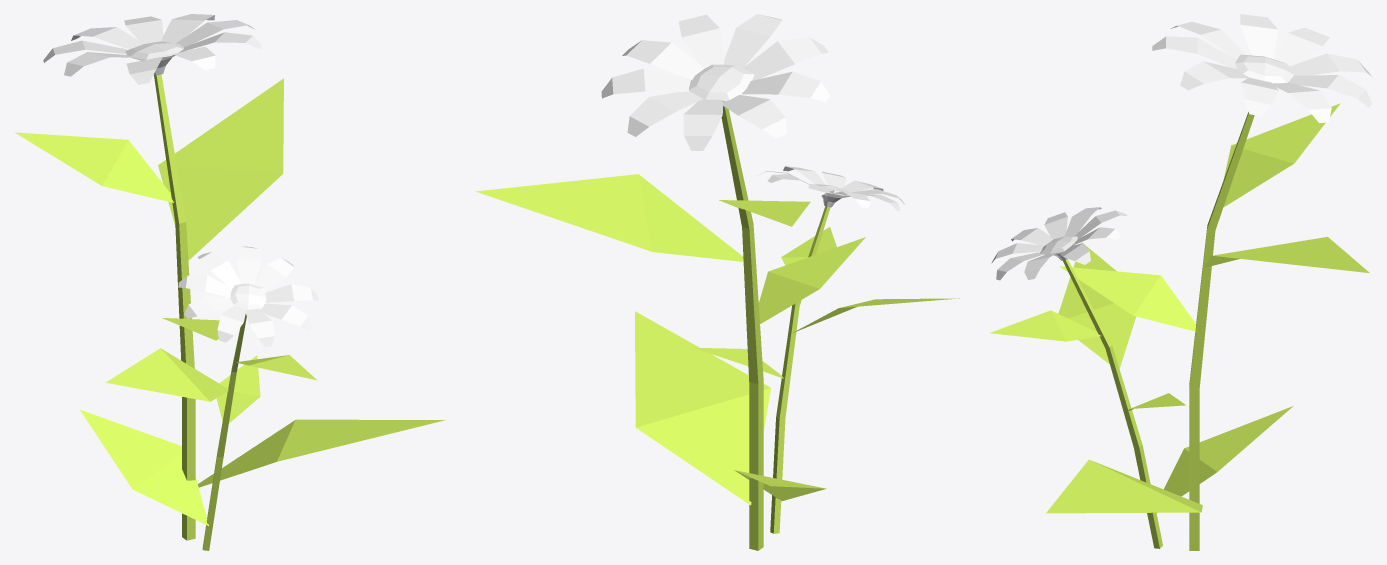
Rendered from flower_white.fbx.
3 views of the same model, side by side, from view 1: azimuth 30°, elevation 25°; view 2: azimuth 150°, elevation 25°; view 3: azimuth 270°, elevation 25° (orthographic). The views are drawn at different scales.
Visible parts, largest first — view 1: flower_white; view 2: flower_white; view 3: flower_white.
Part boxes in pixels (box(x1,y1,x2,y2)): flower_white: box(14, 14, 445, 550); flower_white: box(475, 14, 959, 550); flower_white: box(989, 14, 1372, 550).
Bounding box in the file's own units: 0.1511 × 0.2179 × 0.1494.
